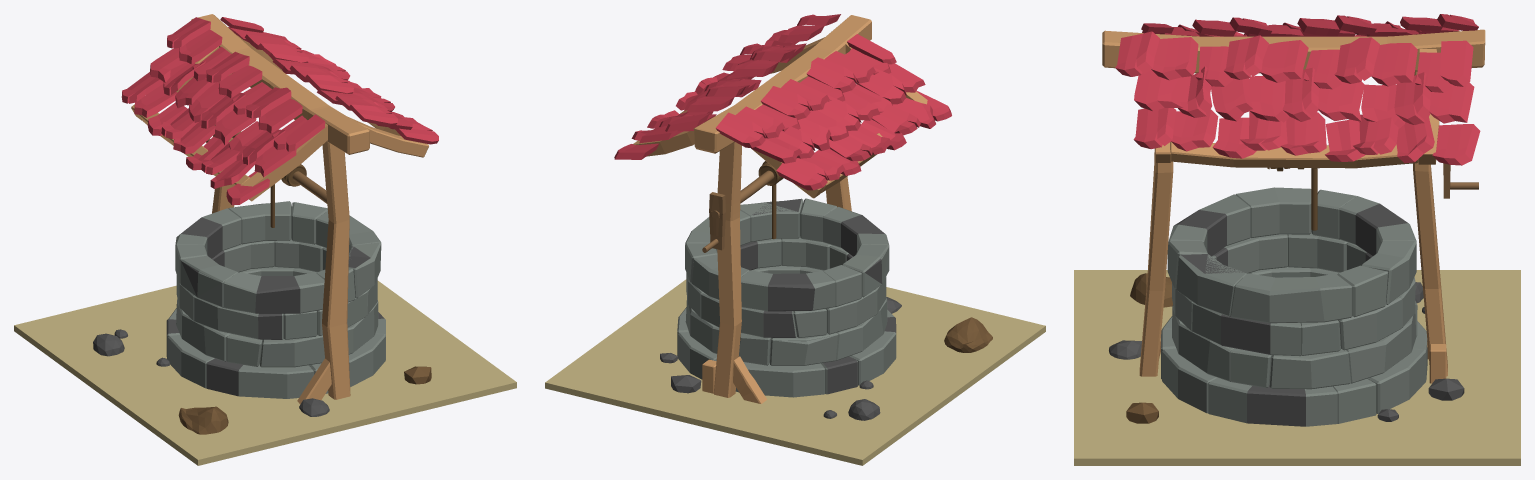
Rendered from well3D.glb.
3 renders of one model, left to right at view 1: azimuth 30°, elevation 25°; view 2: azimuth 150°, elevation 25°; view 3: azimuth 270°, elevation 25°, orthographic. The views are drawn at different scales.
Parts seen in each view (by area): view 1: Plane, Plane.001, Cube.004, Cube.002, Cube.003, Plane.029, support2, Cube.001, roof_main_supp, Cube.008, Icosphere.003, Cube.010 (+2 smaller); view 2: Plane, Plane.001, Cube.004, Cube.002, Plane.029, Cube.003, Cube.001, support1, roof_main_supp, Icosphere.003, Cylinder.002, Cube.006 (+3 smaller); view 3: Plane, Plane.029, Cube.004, Cube.002, Cube.003, Cube.001, Plane.001, support2, roof_main_supp, support1, Cube.012, Icosphere.006 (+6 smaller).
Boxes of the visible parts, box(x1,y1,x2,y2) form: Plane: box(14, 280, 516, 465); Plane.001: box(121, 17, 325, 205); Cube.004: box(175, 201, 381, 313); Cube.002: box(176, 238, 377, 339); Cube.003: box(166, 308, 385, 398); Plane.029: box(220, 17, 438, 144); support2: box(322, 141, 350, 399); Cube.001: box(176, 266, 378, 367); roof_main_supp: box(191, 14, 369, 154); Cube.008: box(240, 123, 327, 201); Icosphere.003: box(178, 406, 228, 434); Cube.010: box(347, 116, 428, 157); Plane: box(545, 279, 1045, 465); Plane.001: box(716, 34, 951, 190); Cube.004: box(685, 198, 889, 311); Cube.002: box(686, 236, 886, 337); Plane.029: box(614, 14, 840, 159); Cube.003: box(677, 307, 896, 397); Cube.001: box(685, 265, 887, 365); support1: box(713, 142, 741, 397); roof_main_supp: box(693, 15, 871, 153); Icosphere.003: box(944, 317, 992, 352); Cylinder.002: box(702, 192, 725, 252); Cube.006: box(733, 356, 767, 403); Plane: box(1074, 270, 1520, 465); Plane.029: box(1115, 31, 1480, 165); Cube.004: box(1167, 187, 1416, 323); Cube.002: box(1172, 232, 1415, 356); Cube.003: box(1161, 316, 1427, 426); Cube.001: box(1172, 266, 1417, 389); Plane.001: box(1141, 14, 1478, 36); support2: box(1139, 152, 1173, 376); roof_main_supp: box(1102, 29, 1485, 73); support1: box(1413, 71, 1447, 376); Cube.012: box(1170, 142, 1418, 168); Icosphere.006: box(1428, 378, 1464, 400).
Size of the model in its own units: 23.16 by 21.8 by 23.16.
